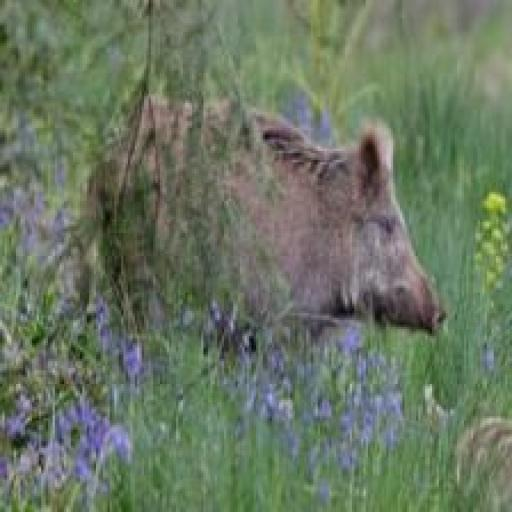Pig: (62, 82, 452, 383)
